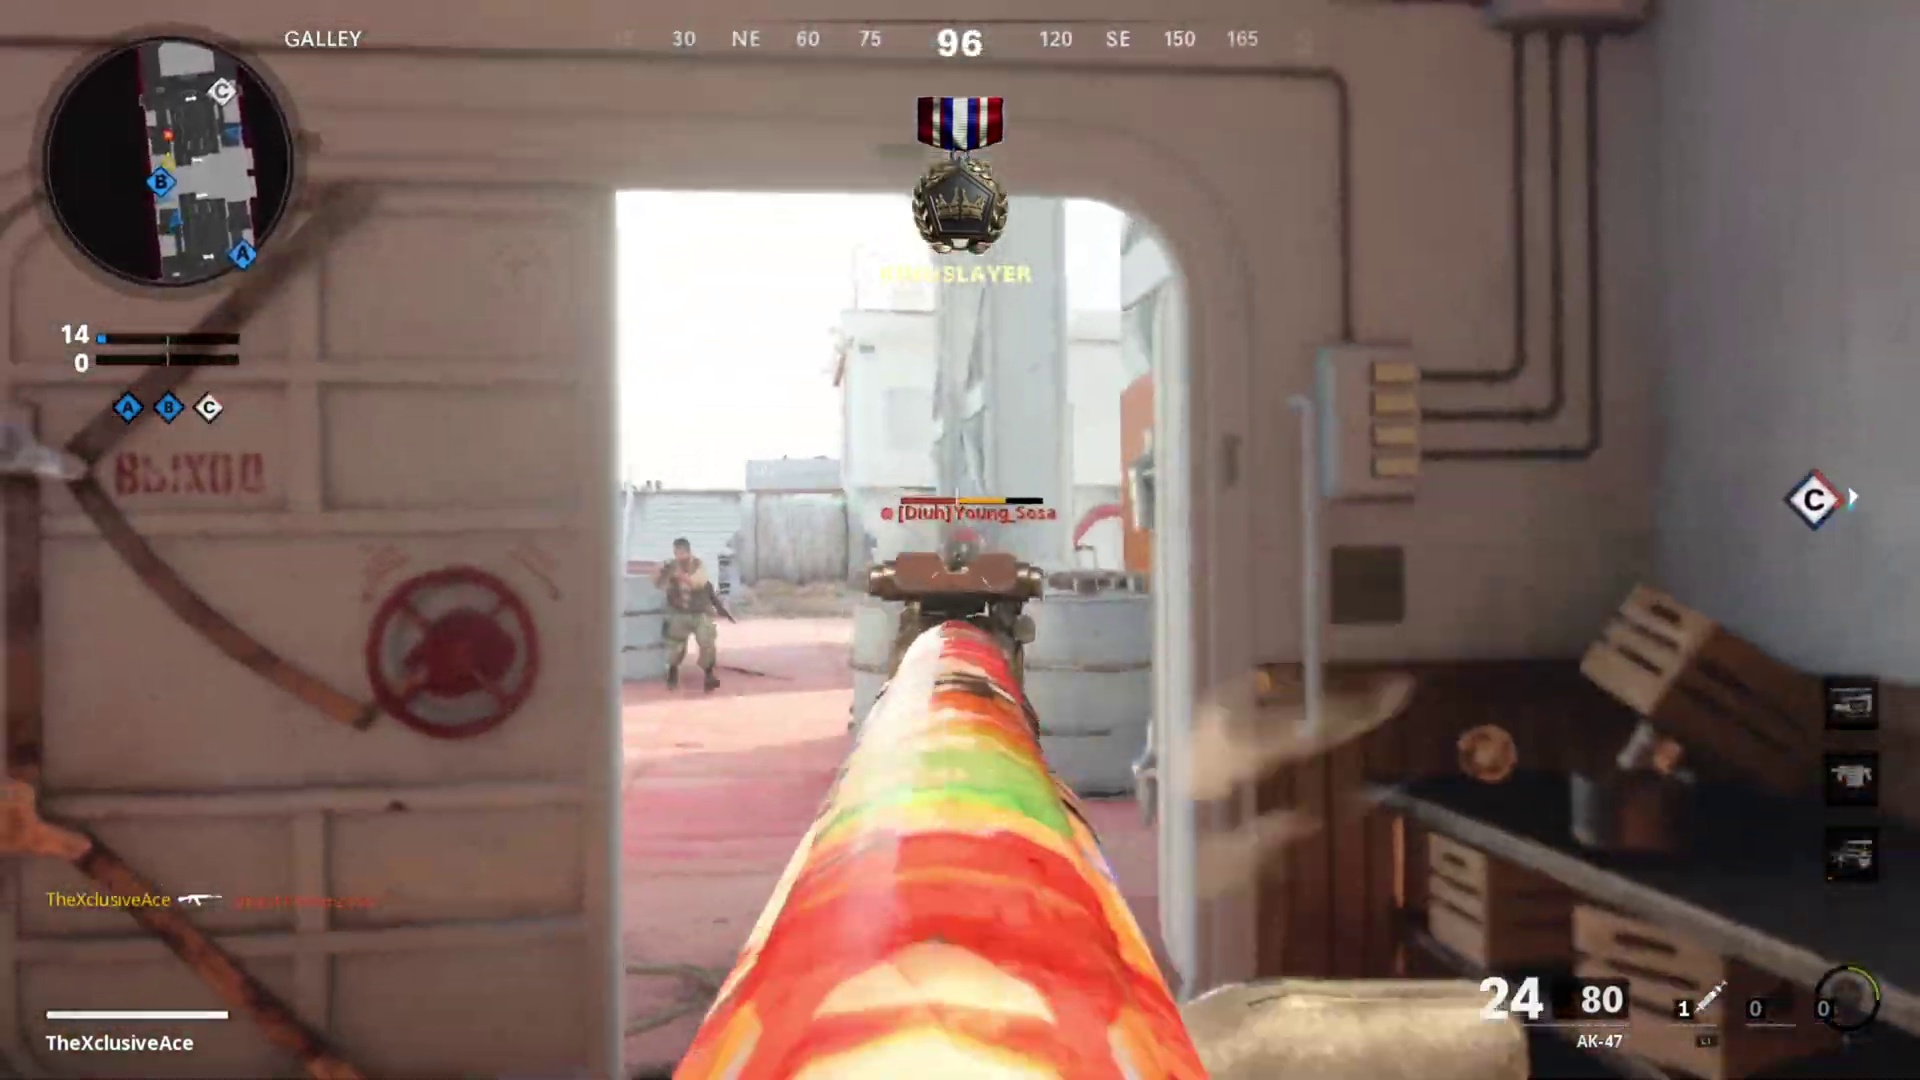head: (668, 536, 695, 575)
person: (647, 534, 729, 690)
